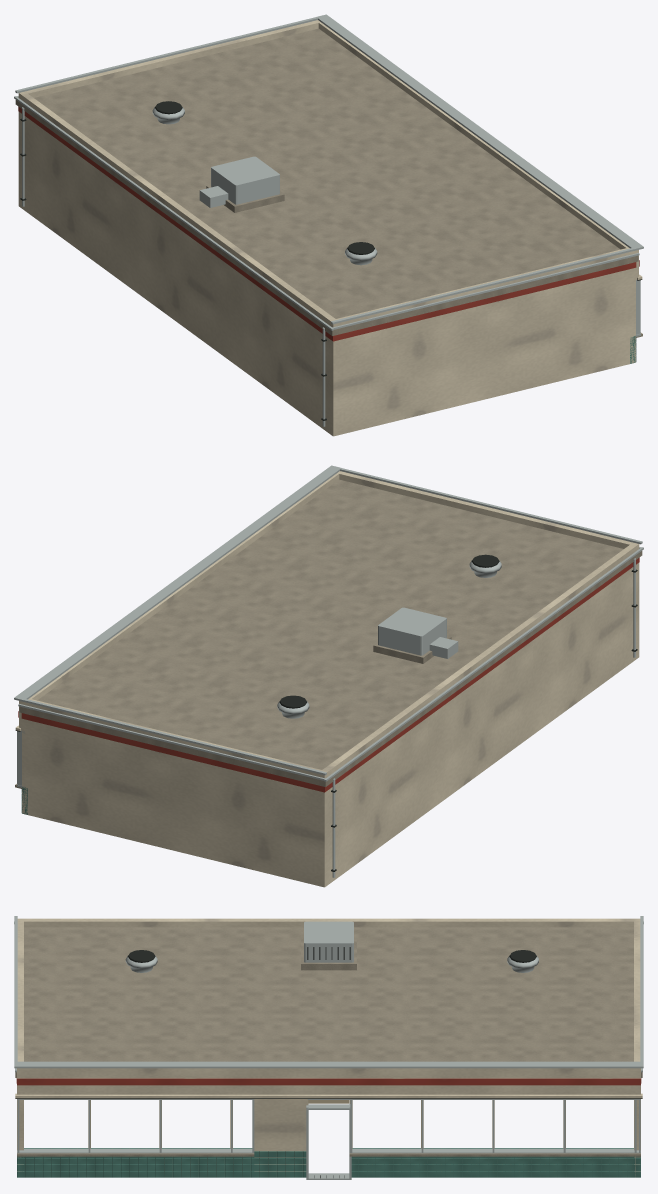
The model's file is SM_Mesa_Shell_LOD1.fbx.
3 renders of one model, top to bottom at view 1: azimuth 30°, elevation 25°; view 2: azimuth 150°, elevation 25°; view 3: azimuth 270°, elevation 25°, orthographic.
Parts seen in each view (by area): view 1: SM_Mesa_Shell_LOD1; view 2: SM_Mesa_Shell_LOD1; view 3: SM_Mesa_Shell_LOD1.
Boxes of the visible parts, x1,y1,x2,y2 form: SM_Mesa_Shell_LOD1: (14,14,643,436); SM_Mesa_Shell_LOD1: (14,465,643,887); SM_Mesa_Shell_LOD1: (14,916,643,1179).
Size of the model in its own units: 10.36 by 18.17 by 4.21.
